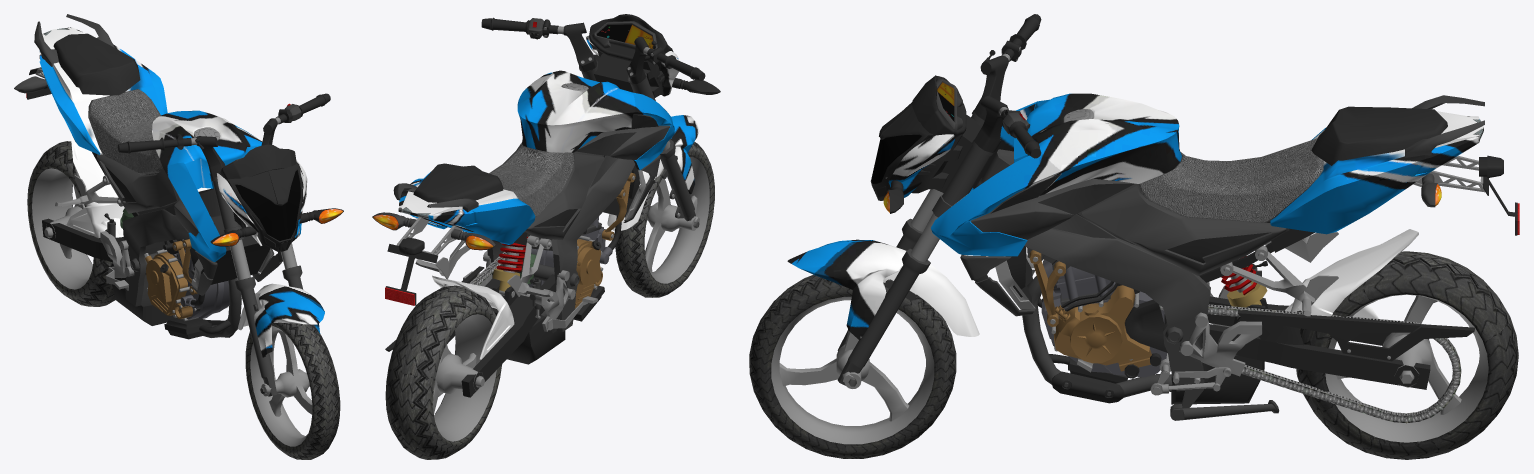
The model's file is Bike.fbx.
3 views of the same model, side by side, from view 1: azimuth 30°, elevation 25°; view 2: azimuth 150°, elevation 25°; view 3: azimuth 270°, elevation 25° (orthographic). The views are drawn at different scales.
Visible parts, largest first — view 1: body101, front_sprung01, Wheel_R_LOD0; view 2: body101, front_sprung01, Wheel_R_LOD0; view 3: body101, front_sprung01, Wheel_R_LOD0.
Part boxes in pixels (<box>): body101: <box>14,14,301,339</box>; front_sprung01: <box>118,93,343,459</box>; Wheel_R_LOD0: <box>27,141,119,306</box>; body101: <box>372,70,674,397</box>; front_sprung01: <box>481,14,720,297</box>; Wheel_R_LOD0: <box>385,285,502,459</box>; body101: <box>931,93,1519,423</box>; front_sprung01: <box>749,14,1041,458</box>; Wheel_R_LOD0: <box>1296,251,1518,459</box>.
Bounding box in the file's own units: 1.57 × 2.06 × 3.77.
